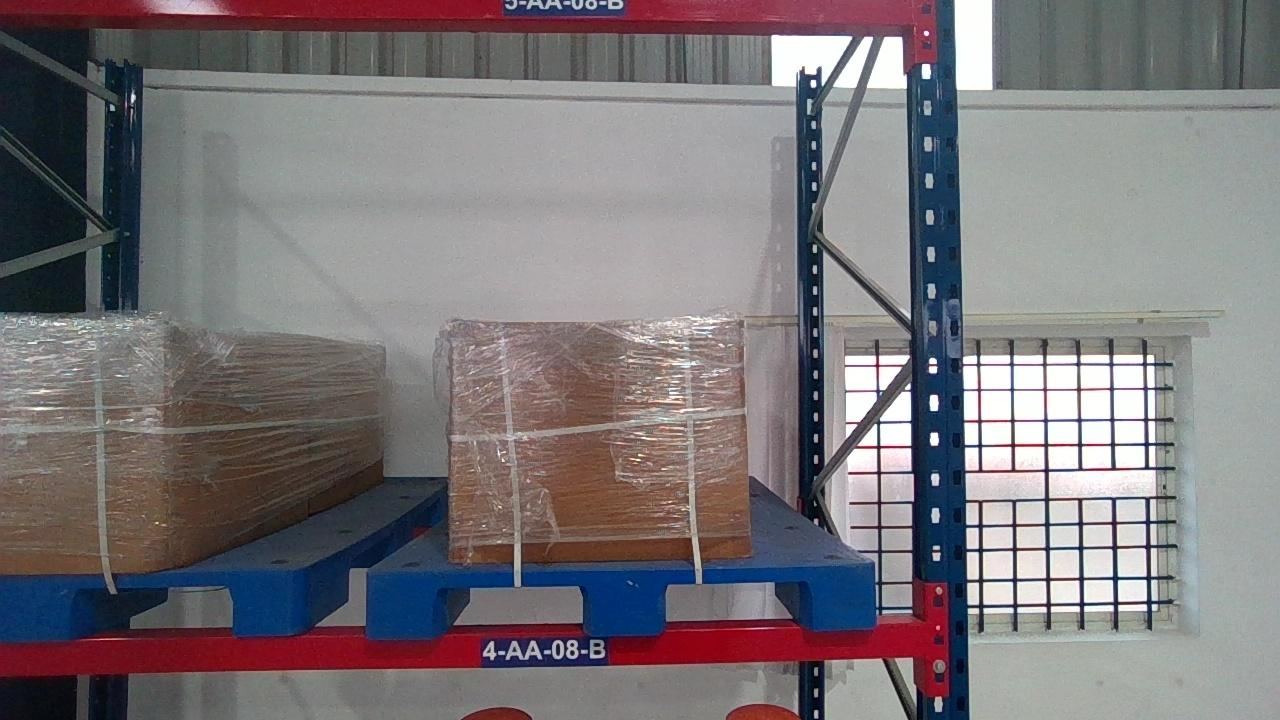h_rack: (2, 624, 924, 671), (1, 0, 911, 27)
small_pallet: (364, 564, 879, 632), (0, 570, 303, 633)
